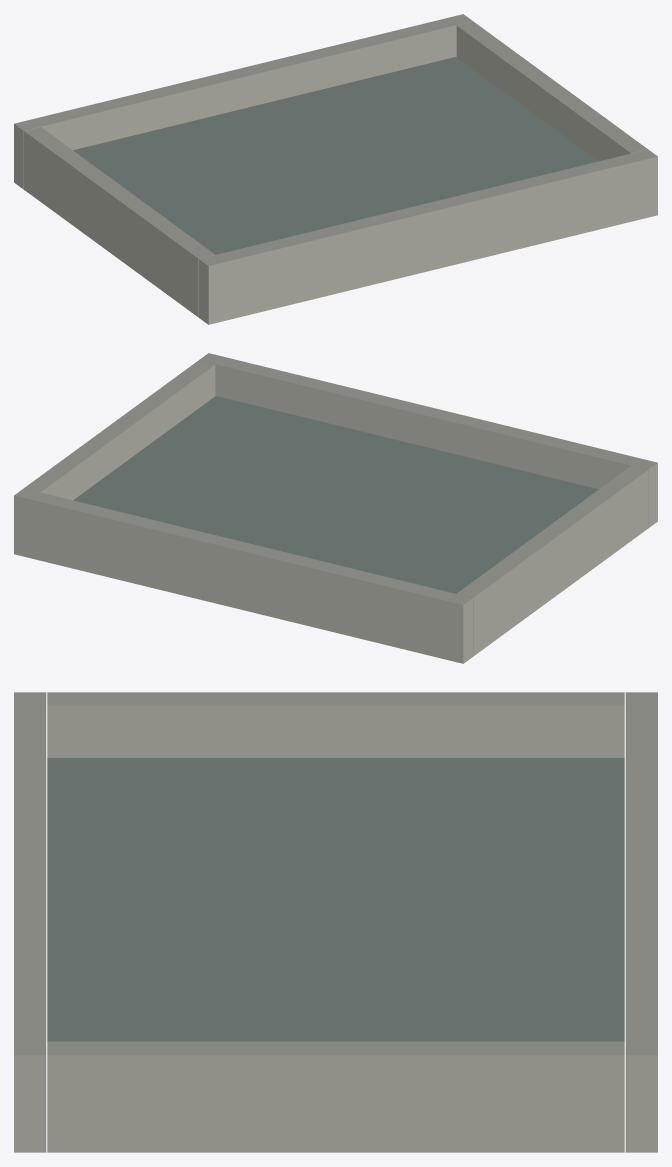
Rendered from SM_Balsa_v1_Media_LOD1.fbx.
3 renders of one model, top to bottom at view 1: azimuth 30°, elevation 25°; view 2: azimuth 150°, elevation 25°; view 3: azimuth 270°, elevation 25°, orthographic. The views are drawn at different scales.
Parts seen in each view (by area): view 1: SM_huerta_nules_v11_LOD1; view 2: SM_huerta_nules_v11_LOD1; view 3: SM_huerta_nules_v11_LOD1.
Boxes of the visible parts, x1,y1,x2,y2 form: SM_huerta_nules_v11_LOD1: (14,14,657,324); SM_huerta_nules_v11_LOD1: (14,353,657,663); SM_huerta_nules_v11_LOD1: (14,692,657,1152).
Size of the model in its own units: 8 by 1 by 6.
